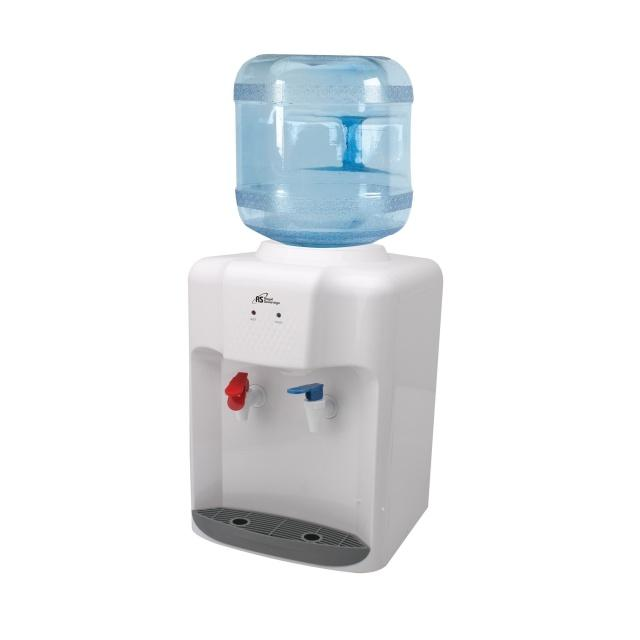Dispenser: (185, 52, 442, 572)
